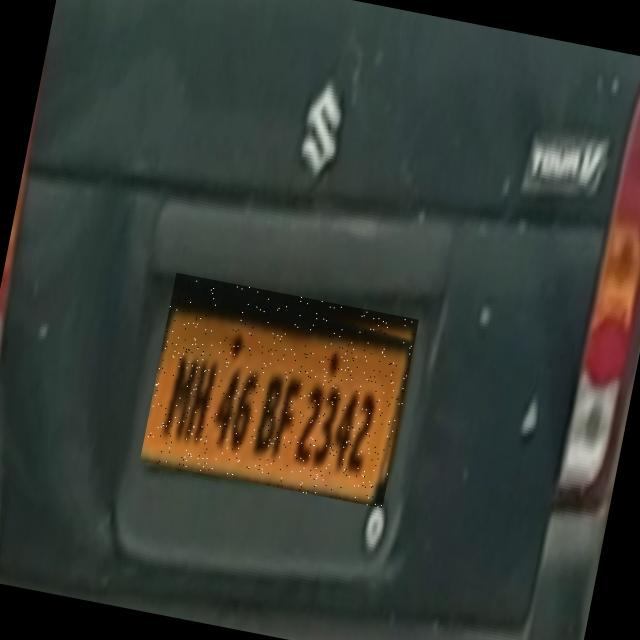Plate: (141, 274, 420, 510)
